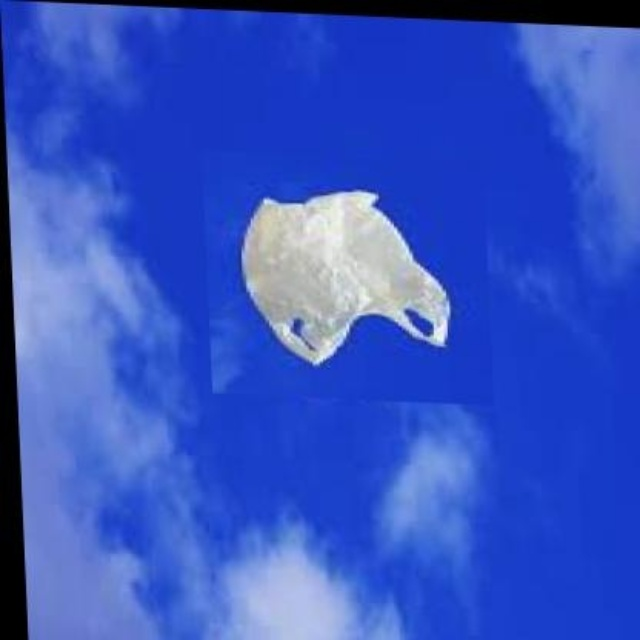trash: (242, 191, 448, 363)
